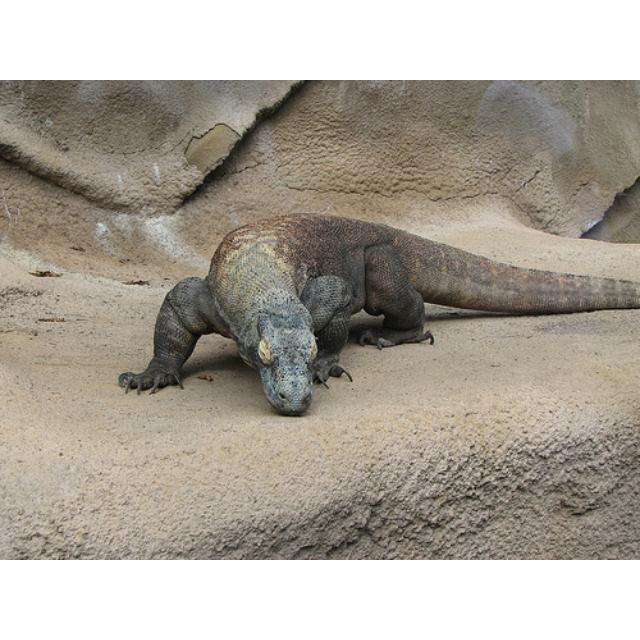KomodoDragon: (117, 213, 637, 416)
